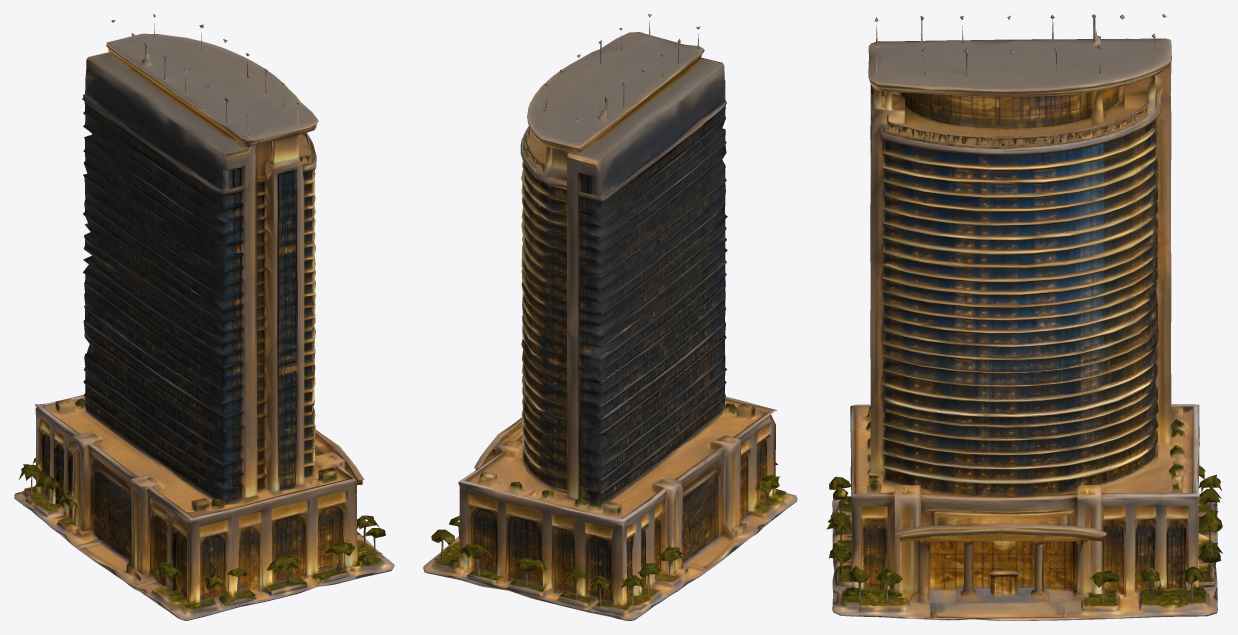
The model's file is hotel_tower.glb.
3 views of the same model, side by side, from view 1: azimuth 30°, elevation 25°; view 2: azimuth 150°, elevation 25°; view 3: azimuth 270°, elevation 25° (orthographic). The views are drawn at different scales.
Visible parts, largest first — view 1: tripo_node_4fbe520a-b190-4539-aa4c-ff853730c1ae; view 2: tripo_node_4fbe520a-b190-4539-aa4c-ff853730c1ae; view 3: tripo_node_4fbe520a-b190-4539-aa4c-ff853730c1ae.
Boxes of the visible parts, x1,y1,x2,y2 form: tripo_node_4fbe520a-b190-4539-aa4c-ff853730c1ae: (14, 14, 394, 620); tripo_node_4fbe520a-b190-4539-aa4c-ff853730c1ae: (423, 14, 797, 620); tripo_node_4fbe520a-b190-4539-aa4c-ff853730c1ae: (826, 14, 1222, 620).
Size of the model in its own units: 0.5045 by 1 by 0.6805.
1 material, 1 textured.
